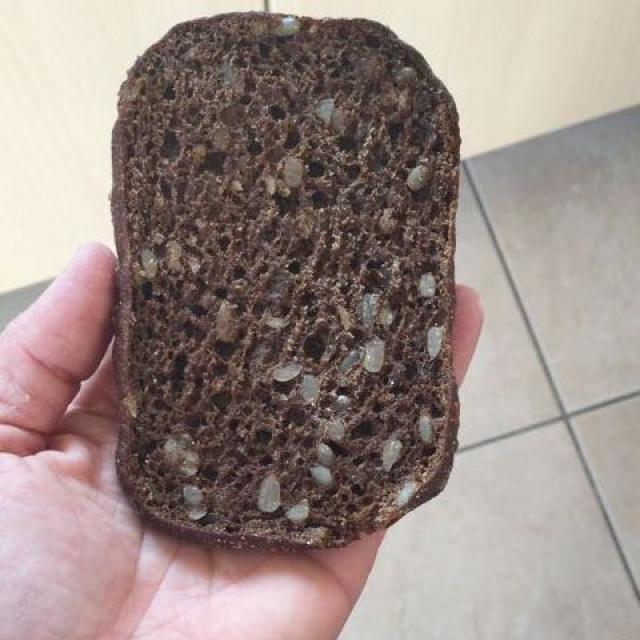bread: (114, 17, 453, 501)
